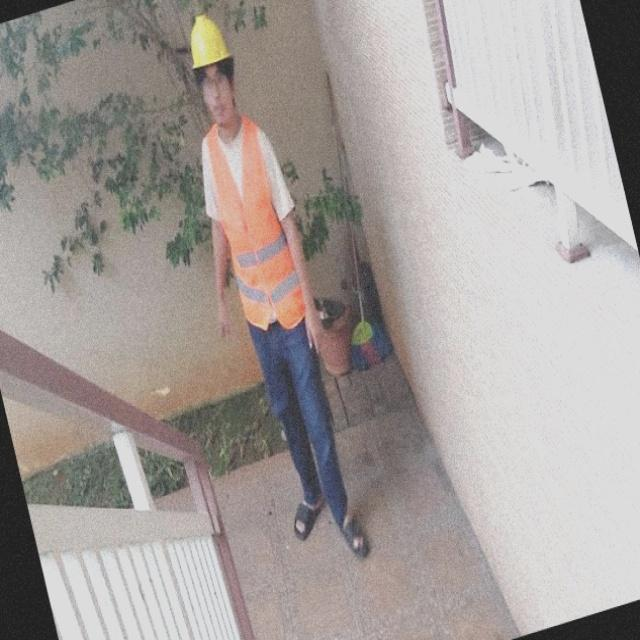helmet: (168, 13, 255, 71)
safety_vest: (192, 131, 334, 331)
